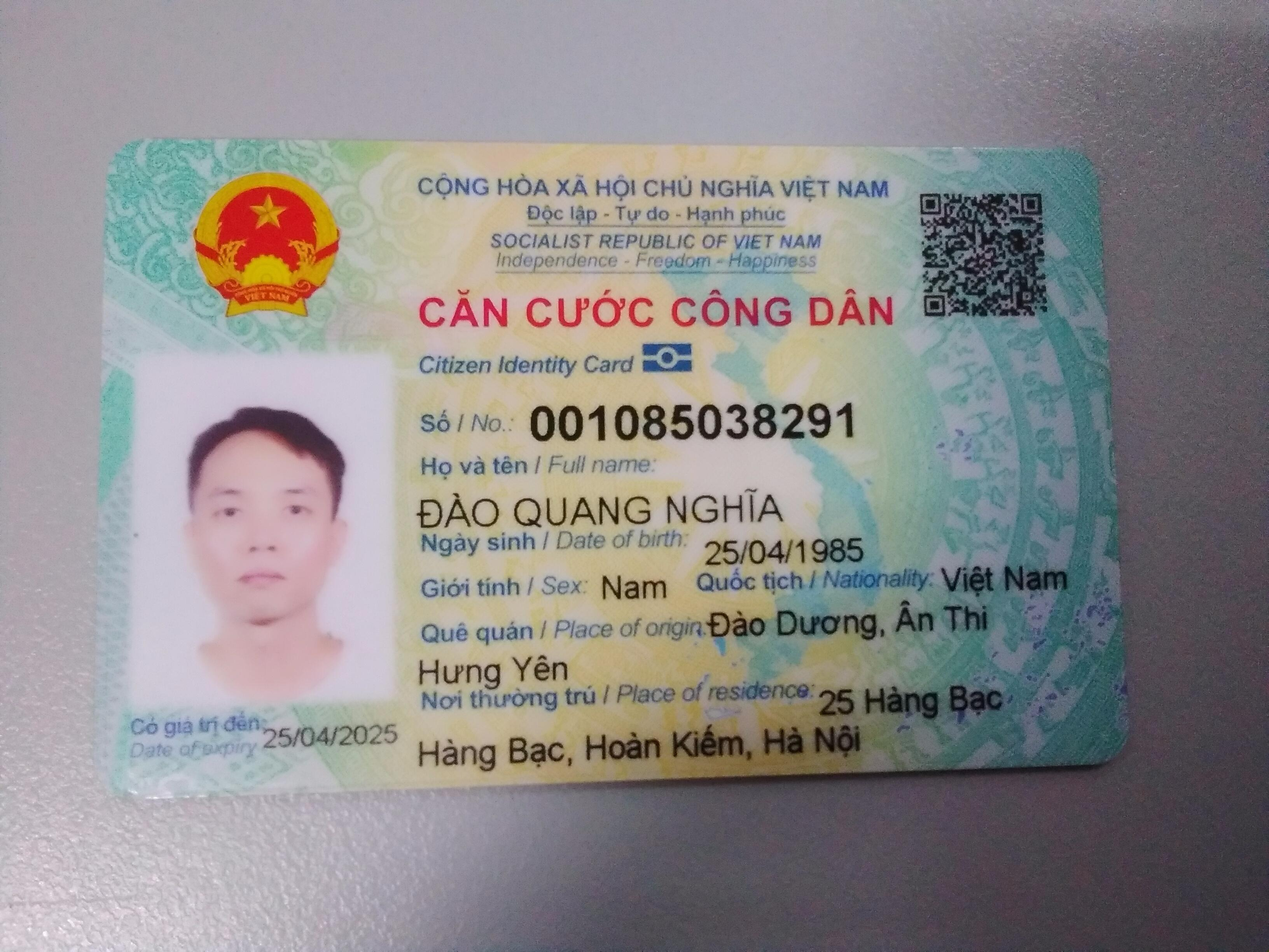ID: (519, 394, 875, 446)
birth: (704, 527, 867, 567)
name: (412, 486, 816, 528)
place: (706, 601, 999, 639), (393, 648, 581, 687)
residence: (412, 715, 876, 776), (820, 677, 1013, 723)
